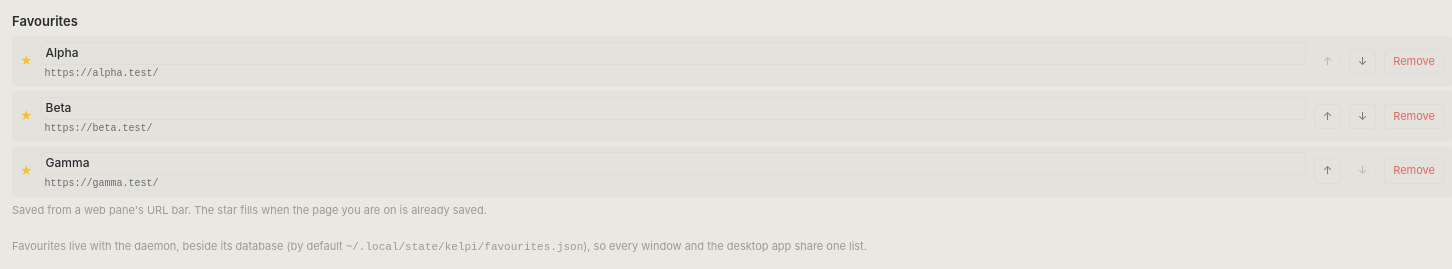
Test: favourites rename (SET-099) › Escape abandons the draft without committing
Type "discard me" into the field with test id "settings-favourite-title-f1". click: (673, 54)
box: [40,42,1306,65]
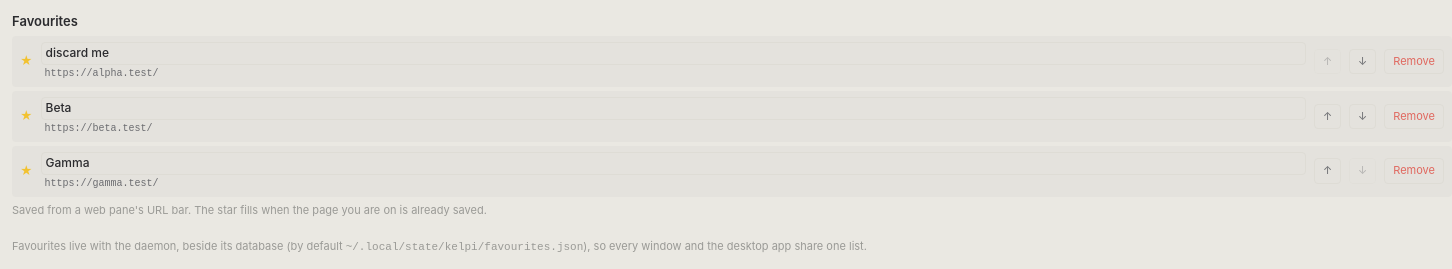
Press Escape in the field with test id "settings-favourite-title-f1", box [40,42,1306,65]
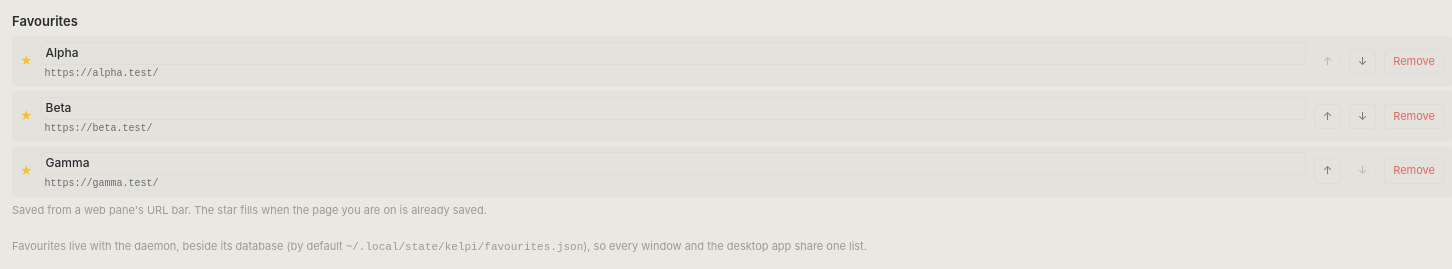
Expected: the field with test id "settings-favourite-title-f1" holds "Alpha", [40,42,1306,65]
